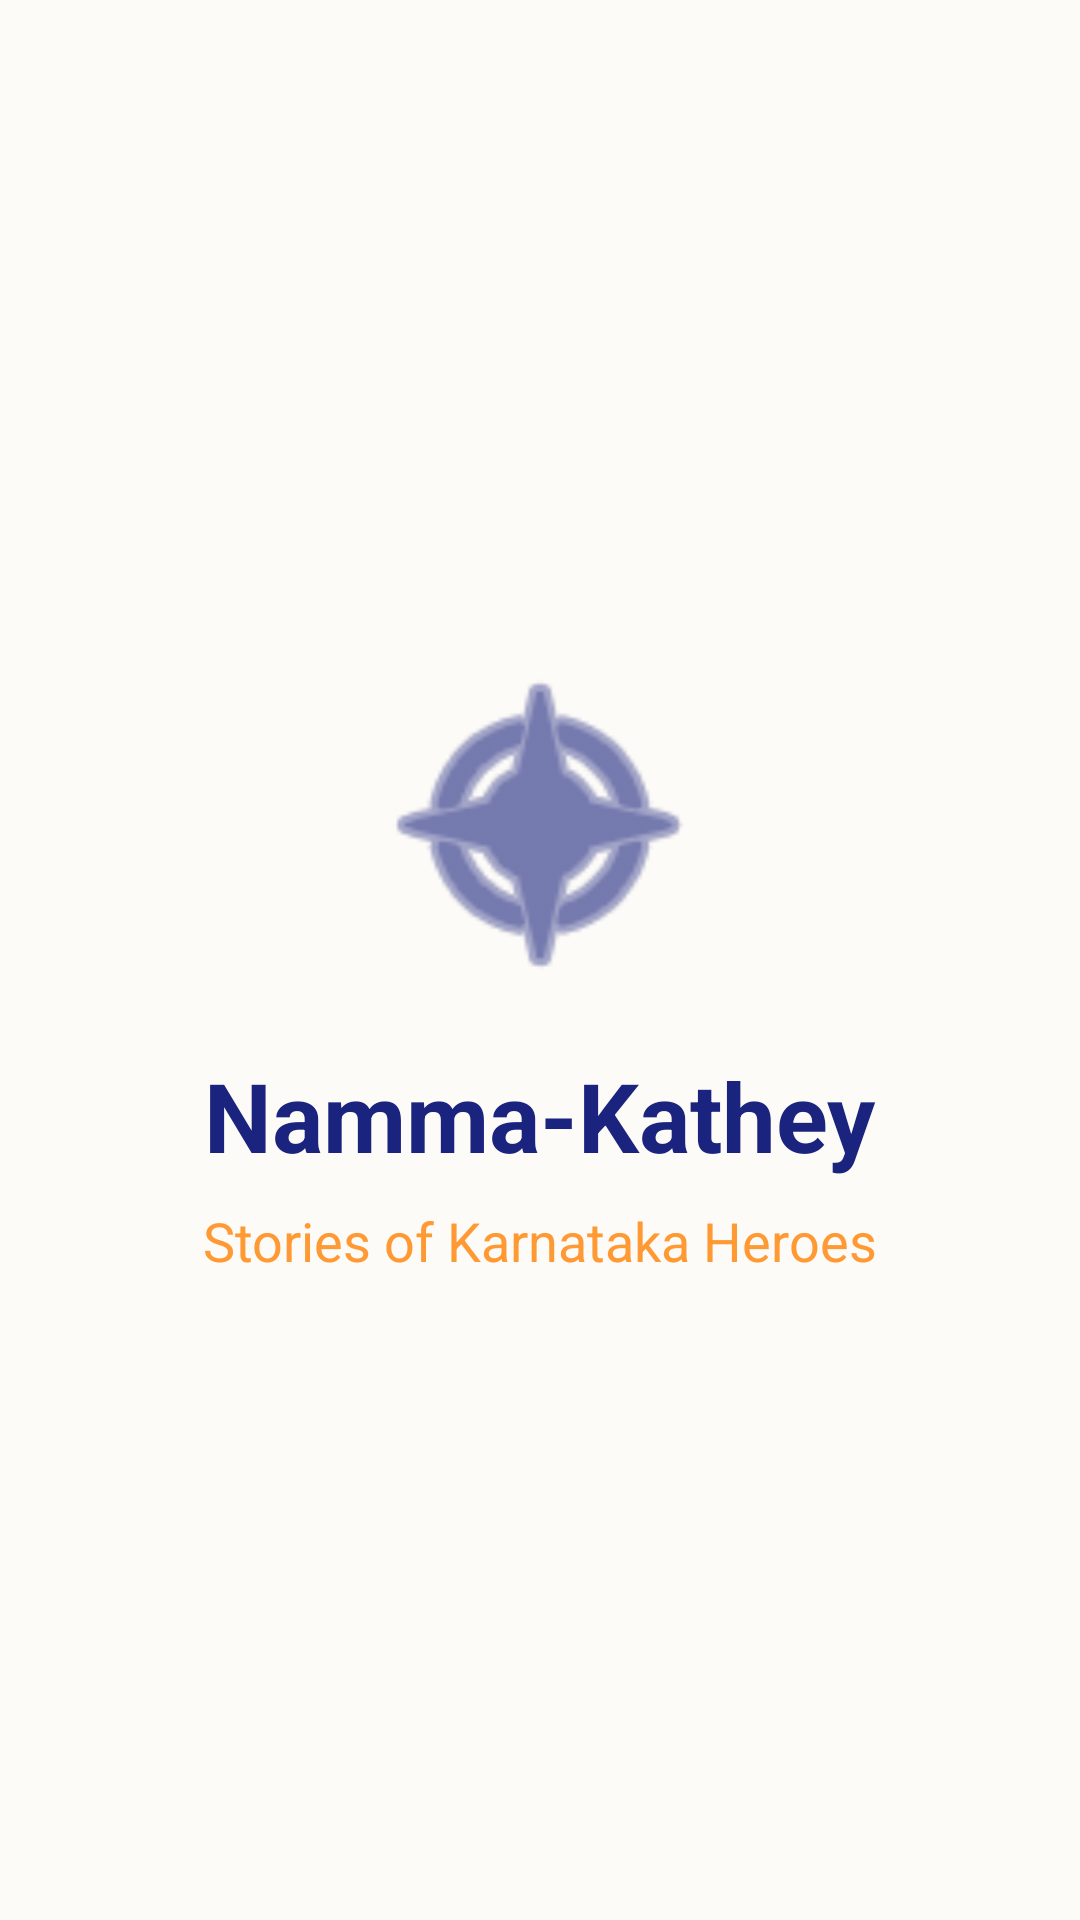

Named icons in this screenshot (1080 × 1920) and their centers, (x=x, y=y):
compass: (x=538, y=825)
